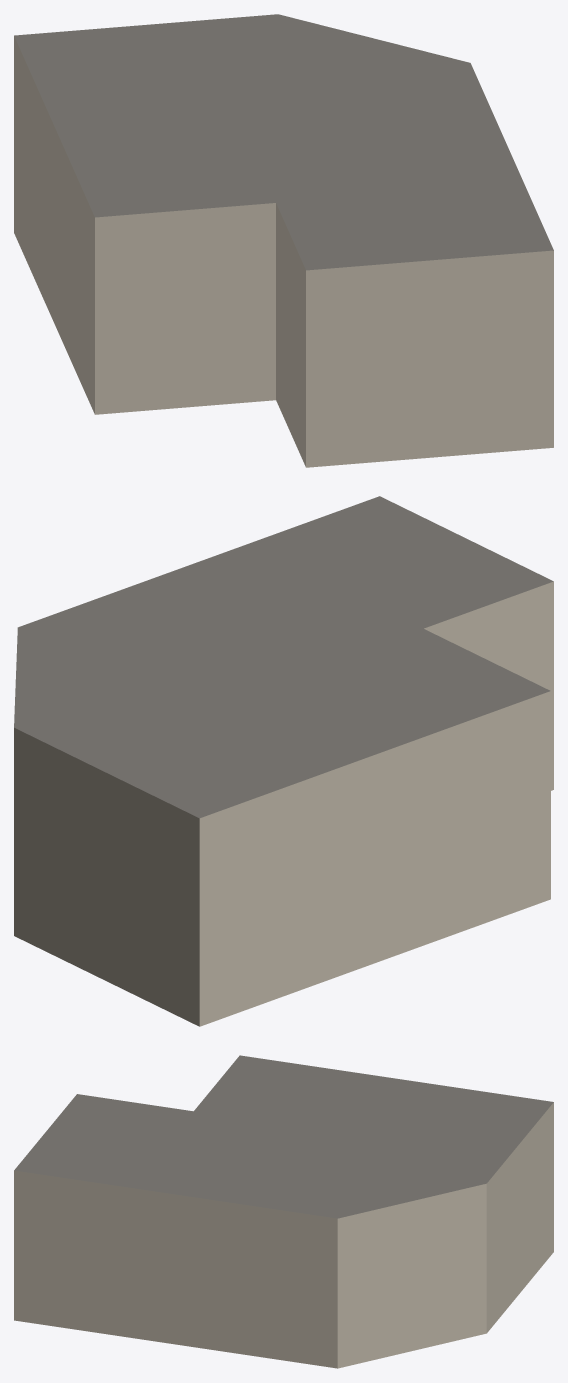
3 views of the same model, one above another, from view 1: azimuth 30°, elevation 25°; view 2: azimuth 150°, elevation 25°; view 3: azimuth 270°, elevation 25° (orthographic). The views are drawn at different scales.
Parts seen in each view (by area): view 1: HP-w1286966217; view 2: HP-w1286966217; view 3: HP-w1286966217.
Part boxes in pixels (x1,y1,x2,y2): HP-w1286966217: (14,14,553,467); HP-w1286966217: (14,496,553,1026); HP-w1286966217: (14,1055,553,1368).
Bounding box in the file's own units: 42.02 × 18 × 58.74.
